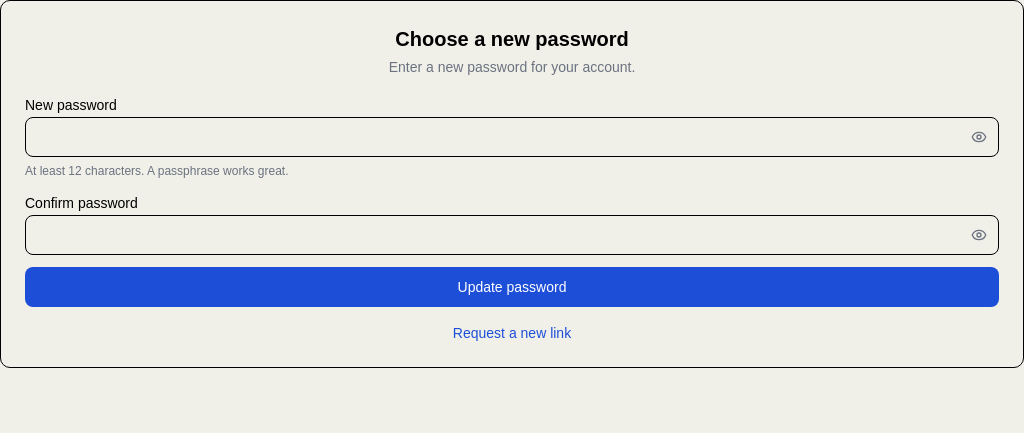
auth flows › reset: blocks mismatched passwords
The image size is (1024, 433).
Type "a-long-enough-passphrase" into the password field labelled "New password".
click(512, 137); type("a-long-enough-passphrase")  # box [25,117,999,157]
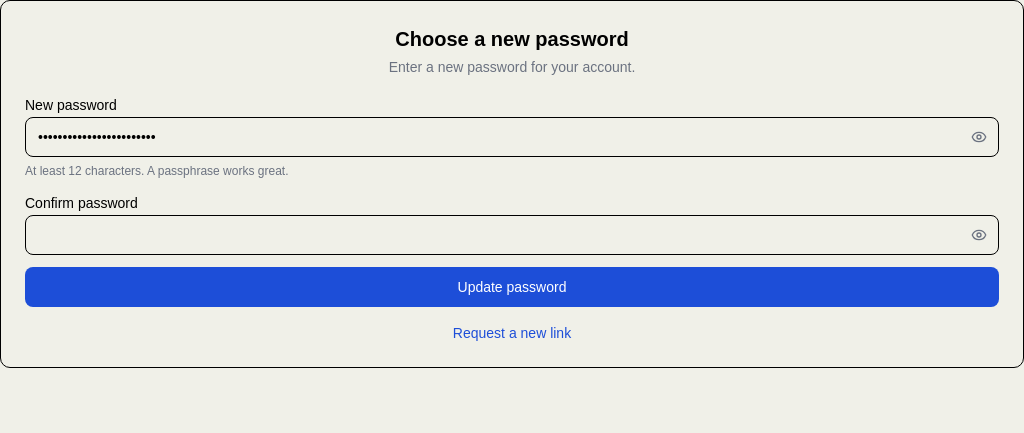
Type "different-passphrase-x" into the password field labelled "Confirm password".
click(512, 235); type("different-passphrase-x")  # box [25,215,999,255]
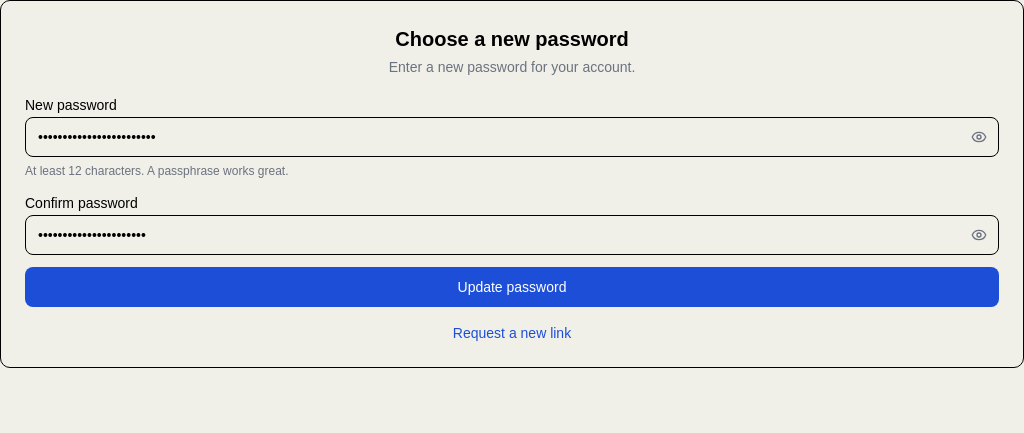
Click the button "Update password".
click(512, 287)  # box [25,267,999,307]
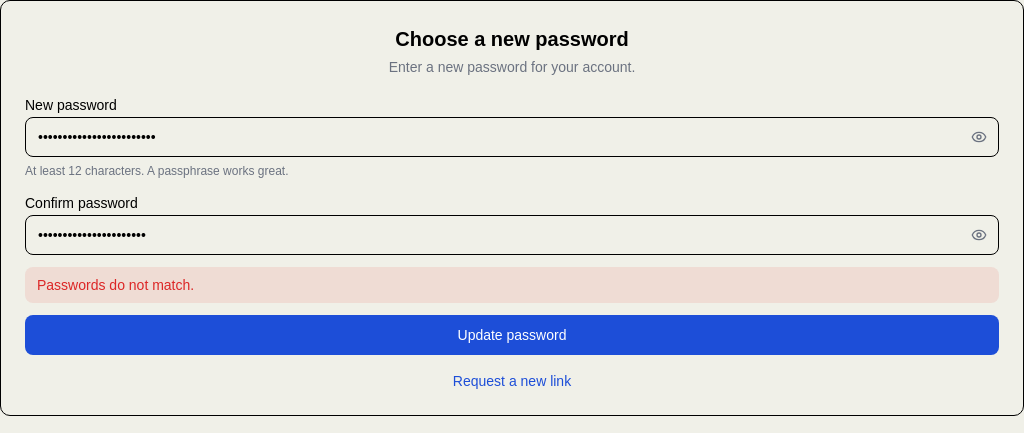
expect the message shows "do not match": met, box [37,277,194,293]
